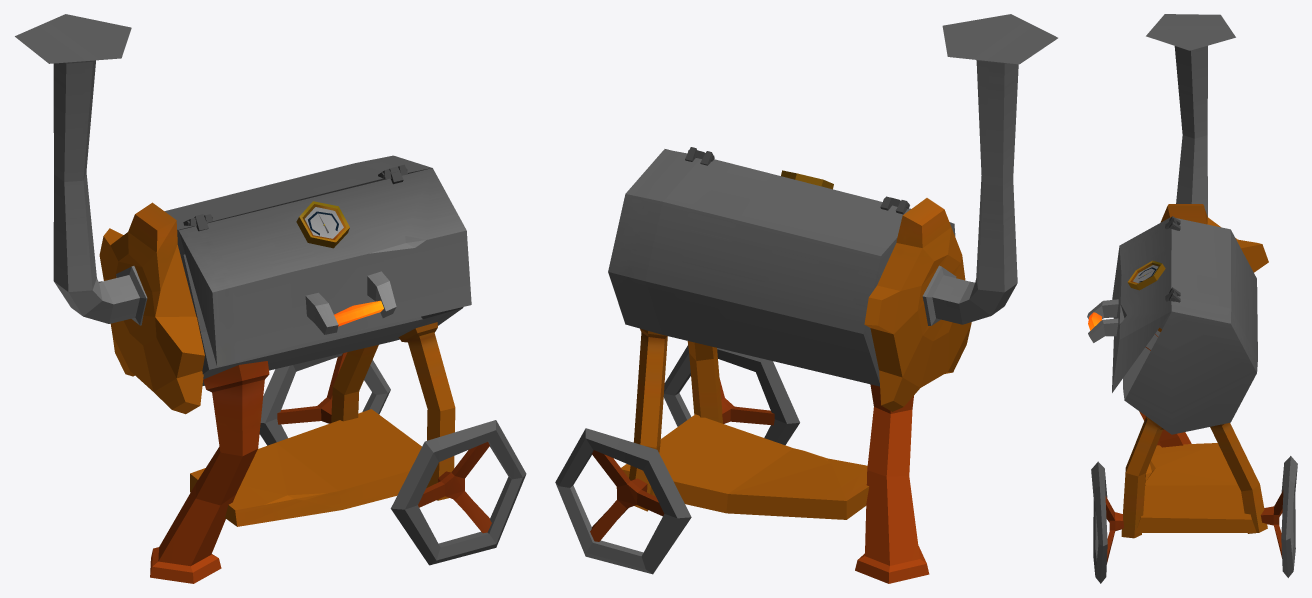
File: Smoker.glb
The picture shows the model from 3 angles, left to right: view 1: azimuth 30°, elevation 25°; view 2: azimuth 150°, elevation 25°; view 3: azimuth 270°, elevation 25°; orthographic projection. The views are drawn at different scales.
Visible parts, largest first — view 1: Smoker; view 2: Smoker; view 3: Smoker.
Part boxes in pixels (x1,y1,x2,y2): Smoker: (15,14,526,583); Smoker: (555,14,1057,583); Smoker: (1087,14,1297,583).
Size of what is drawn, in the model's own units: 1.7 by 2.05 by 0.9328.
Materials: 1 (1 with a texture image).
